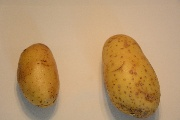potato: (101, 32, 163, 120), (16, 42, 60, 108)
